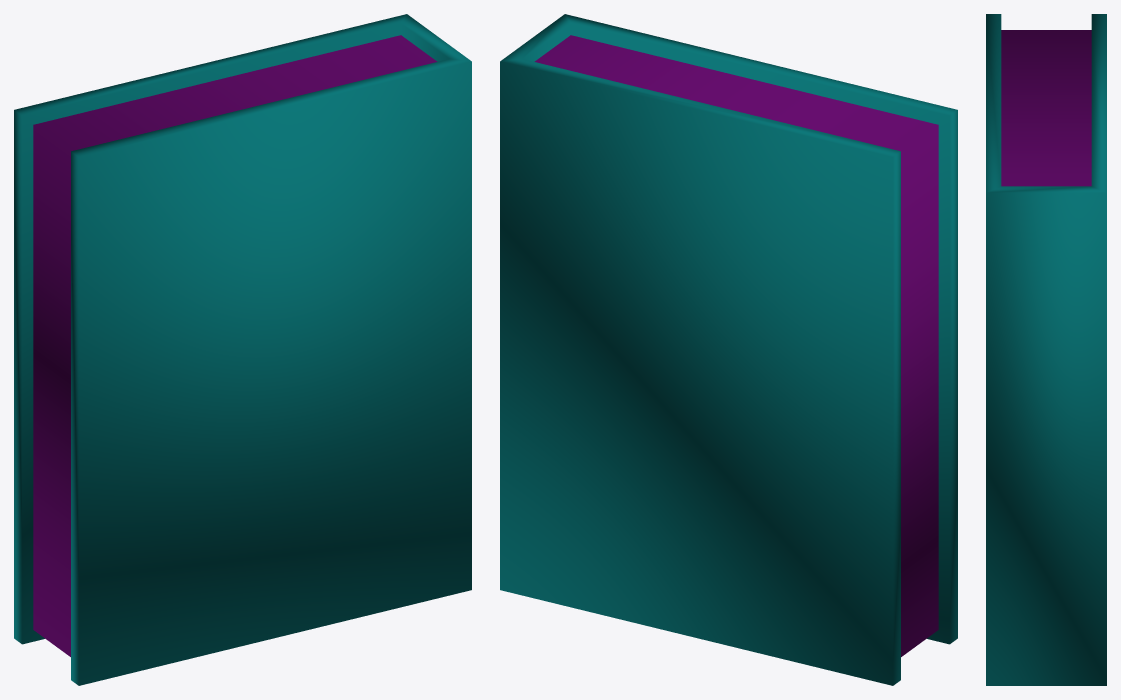
Rendered from livre_ferme_low.fbx.
3 renders of one model, left to right at view 1: azimuth 30°, elevation 25°; view 2: azimuth 150°, elevation 25°; view 3: azimuth 270°, elevation 25°, orthographic. The views are drawn at different scales.
Visible parts, largest first — view 1: livre_ferme_low; view 2: livre_ferme_low; view 3: livre_ferme_low.
Part boxes in pixels (left/top/right/bottom): livre_ferme_low: left=14, top=14, right=471, bottom=685; livre_ferme_low: left=500, top=14, right=957, bottom=685; livre_ferme_low: left=986, top=14, right=1106, bottom=685.
Size of the model in its own units: 35 by 45 by 10.
